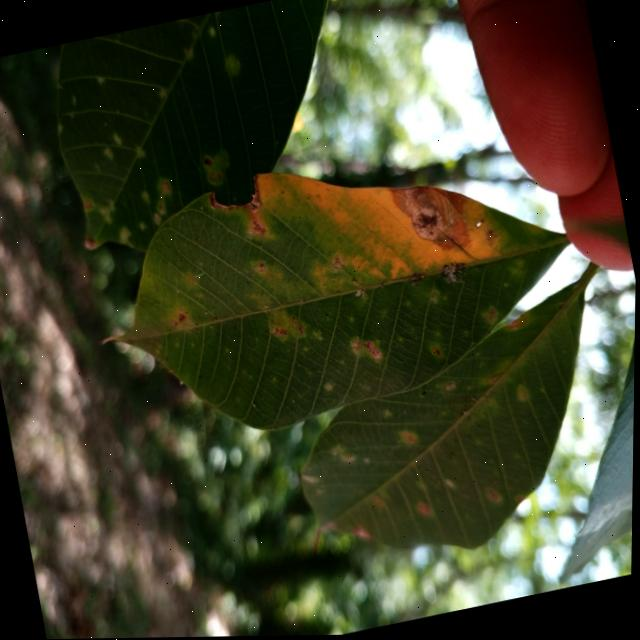Leaf-Blight: (389, 173, 478, 265)
